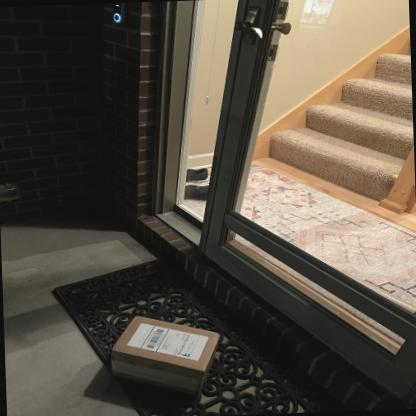box: (111, 309, 223, 387)
